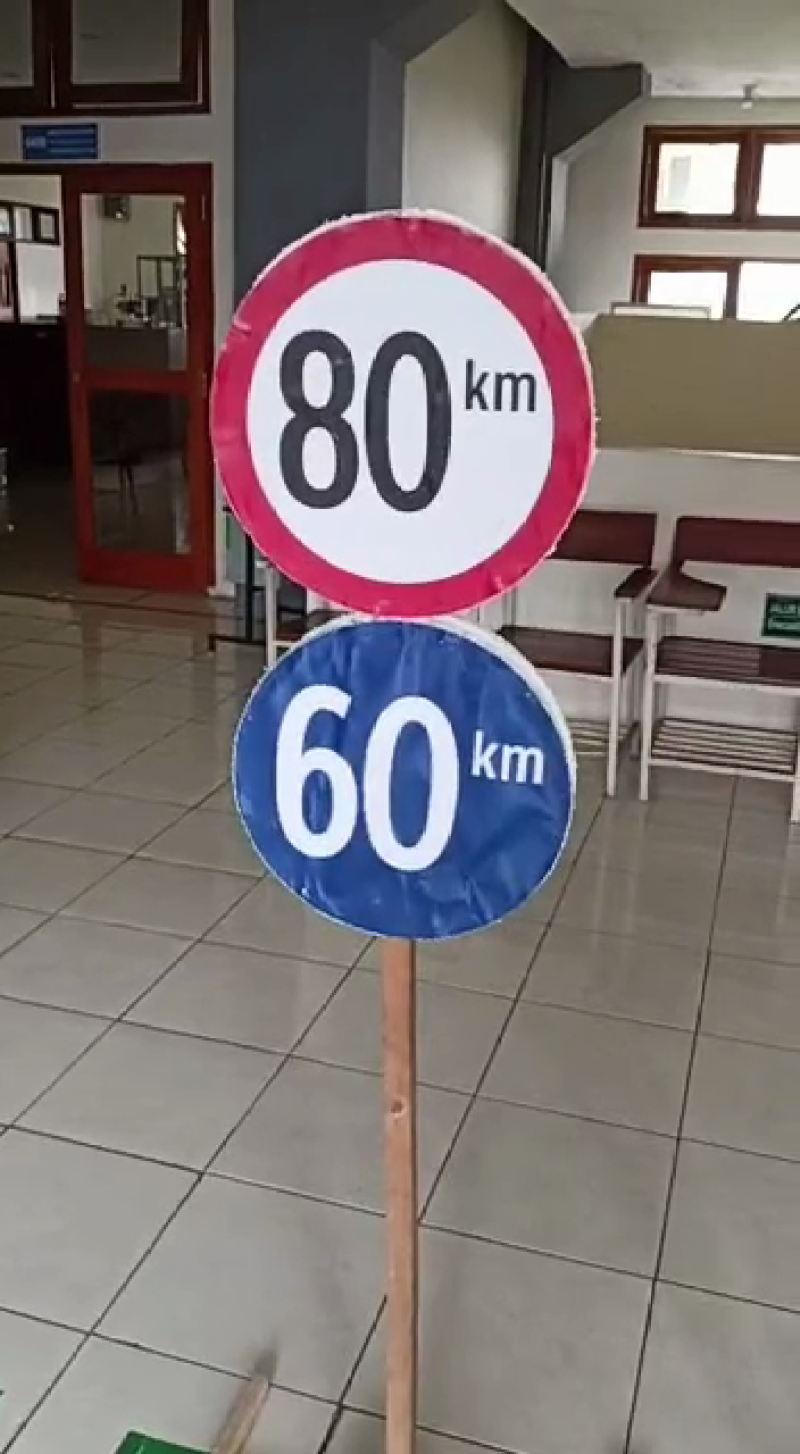batas maksimal 80kmperjam minimal 60kmperjam: (194, 208, 611, 957)
